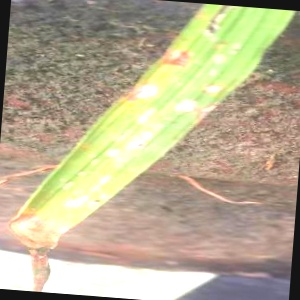Brown_Spot: (161, 39, 197, 75), (117, 76, 160, 104), (161, 92, 202, 121), (204, 74, 233, 101)
